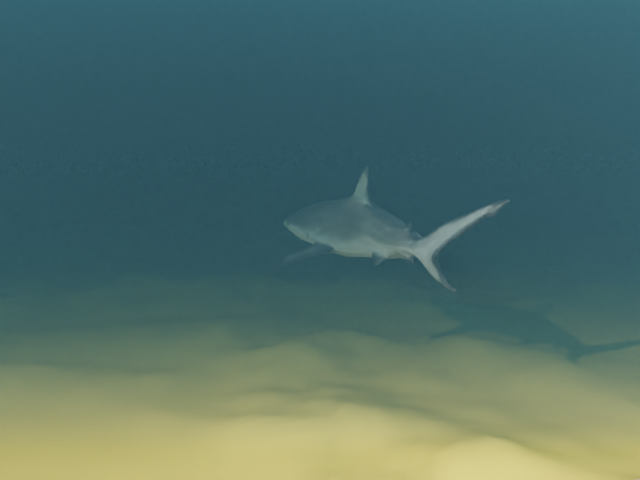Carribean Shark.001: (274, 166, 510, 291)
